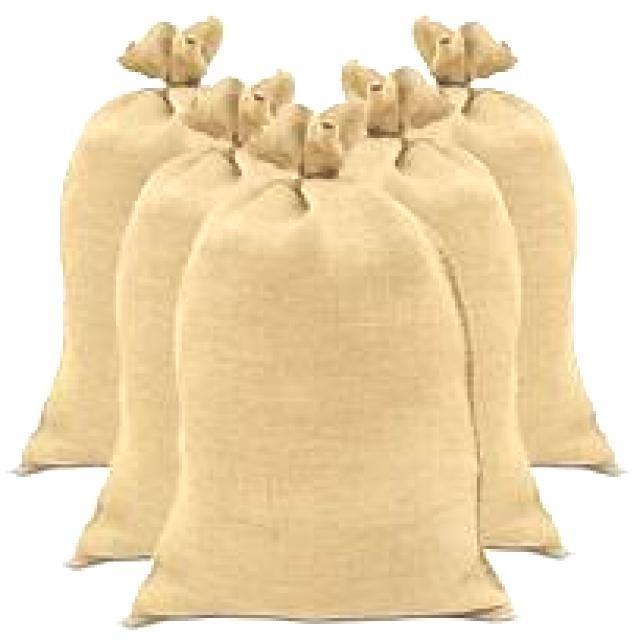gunny_bag: (111, 100, 524, 635), (339, 63, 562, 554), (9, 5, 235, 474), (78, 72, 292, 560), (452, 91, 615, 469)
